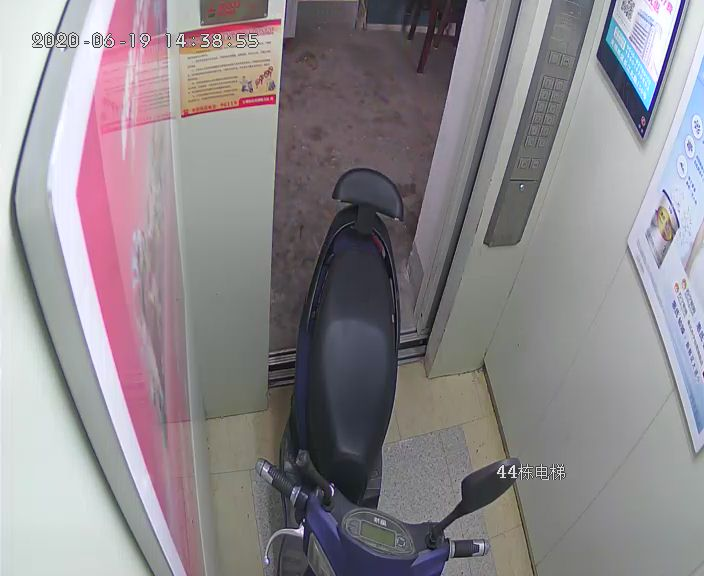Electric-bicycle: (254, 164, 518, 575)
